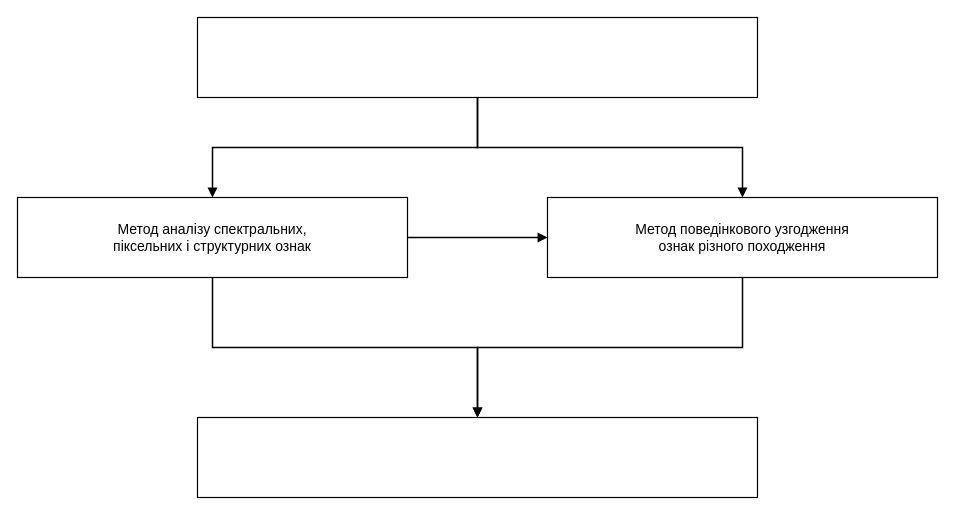
Image size: 956x516. Some labels were removed from this diagram. The shapes that lost their labels are listed below. From the top down, each one's centre as x and y in pixels, then its label:
point (477, 57): Модель мультимодального представлення прихованої загрози
point (477, 457): П’ятиетапна інформаційна технологія виявлення аномальних кодів
